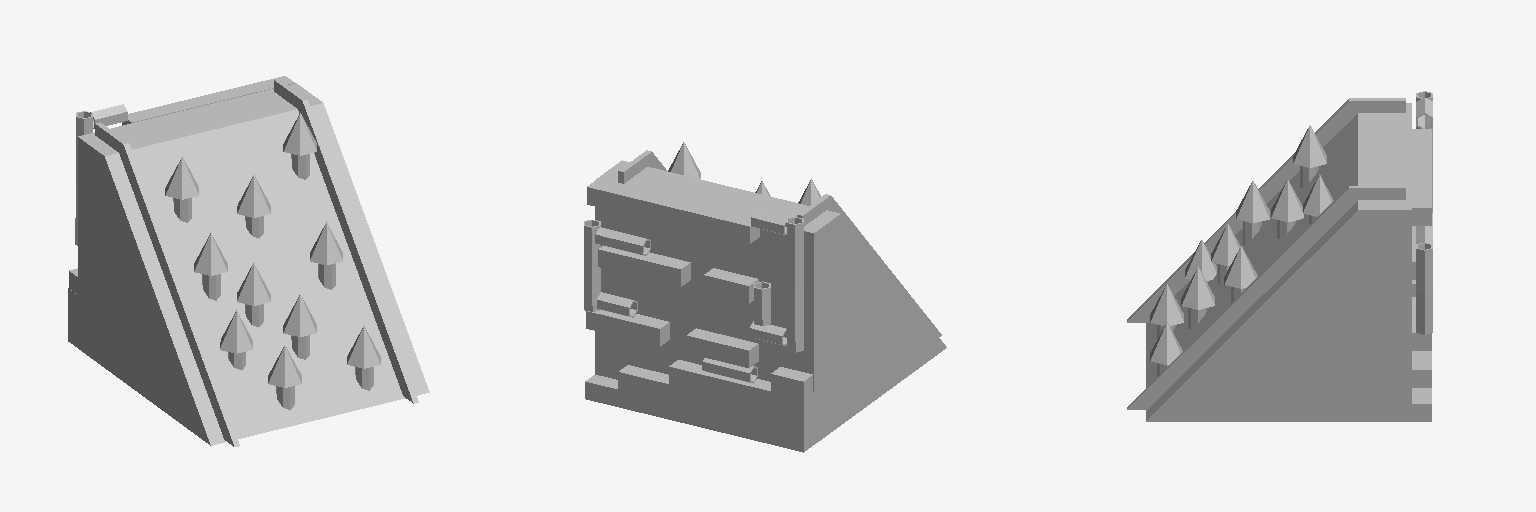
The model's file is slalomslopeexport.obj.
3 renders of one model, left to right at view 1: azimuth 30°, elevation 25°; view 2: azimuth 150°, elevation 25°; view 3: azimuth 270°, elevation 25°, orthographic.
Visible parts, largest first — view 1: BackWall, BackWall (1), BackWall (2), Cube (8), Cone (3), Cone (1), Cone (6), Cone (10), Cone (8), Cone (4), Cone (5), Cone (9) (+4 smaller); view 2: BackWall, Cube (8), Cube (3), Cube (2), Cube, Pipe (6), Cube (6), Cube (5), Cube (1), Pipe (2), Cube (7), BackWall (1) (+9 smaller); view 3: BackWall, BackWall (2), BackWall (1), Cube (8), Pipe (2), Cone (1), Cone (4), Cone (5), Cone (9), Cone (3), Cone (2), Cone (8) (+5 smaller).
Part boxes in pixels (bbox=[...]): BackWall: bbox=[78, 83, 429, 445]; BackWall (1): bbox=[95, 122, 239, 446]; BackWall (2): bbox=[274, 79, 418, 403]; Cube (8): bbox=[122, 76, 294, 125]; Cone (3): bbox=[237, 175, 270, 217]; Cone (1): bbox=[165, 157, 198, 199]; Cone (6): bbox=[237, 263, 270, 305]; Cone (10): bbox=[283, 113, 316, 155]; Cone (8): bbox=[347, 326, 380, 368]; Cone (4): bbox=[194, 233, 227, 275]; Cone (5): bbox=[283, 294, 316, 336]; Cone (9): bbox=[268, 346, 301, 387]; BackWall: bbox=[595, 160, 946, 444]; Cube (8): bbox=[587, 180, 759, 243]; Cube (3): bbox=[585, 375, 813, 452]; Cube (2): bbox=[618, 365, 813, 434]; Cube: bbox=[669, 360, 813, 416]; Pipe (6): bbox=[787, 217, 803, 352]; Cube (6): bbox=[598, 246, 690, 286]; Cube (5): bbox=[586, 310, 669, 346]; Cube (1): bbox=[686, 328, 758, 367]; Pipe (2): bbox=[584, 220, 600, 311]; Cube (7): bbox=[704, 268, 758, 303]; BackWall (1): bbox=[797, 194, 941, 336]; BackWall: bbox=[1146, 103, 1411, 421]; BackWall (2): bbox=[1127, 186, 1405, 409]; BackWall (1): bbox=[1127, 98, 1405, 322]; Cube (8): bbox=[1412, 129, 1431, 225]; Pipe (2): bbox=[1416, 242, 1432, 334]; Cone (1): bbox=[1293, 125, 1326, 167]; Cone (4): bbox=[1236, 181, 1269, 222]; Cone (5): bbox=[1181, 267, 1214, 309]; Cone (9): bbox=[1150, 284, 1183, 325]; Cone (3): bbox=[1271, 180, 1303, 221]; Cone (2): bbox=[1224, 246, 1257, 288]; Cone (8): bbox=[1150, 322, 1182, 364].
Size of the model in its own units: 13.26 by 12.85 by 15.68.